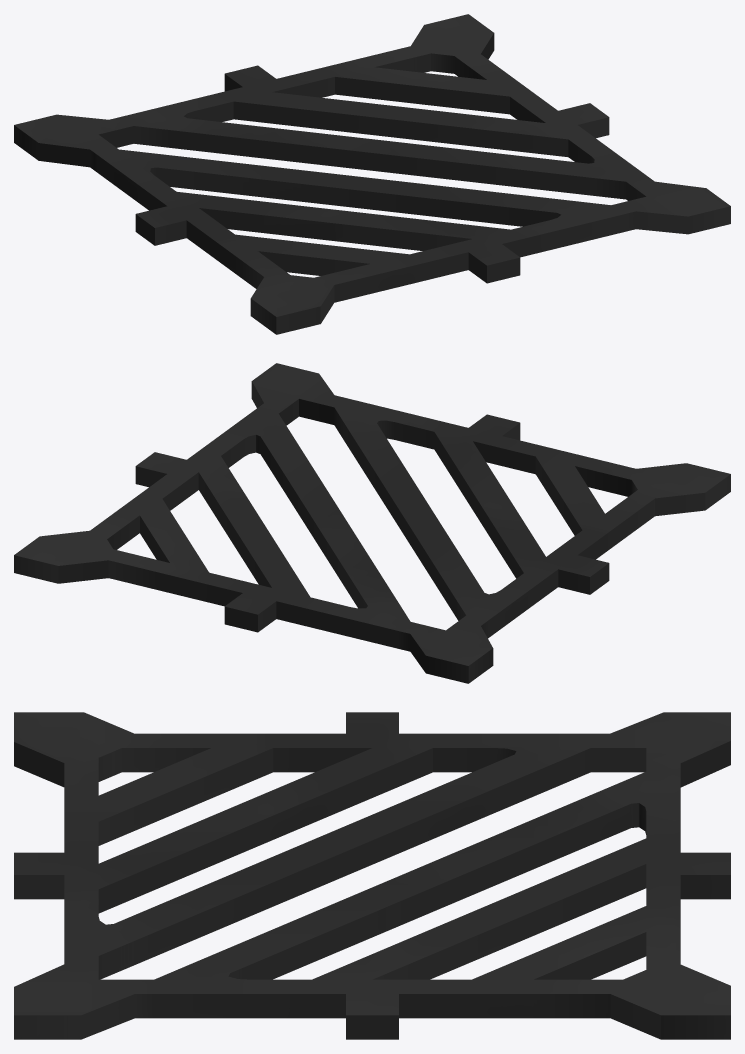
The model's file is drain_grate.glb.
The picture shows the model from 3 angles, top to bottom: view 1: azimuth 30°, elevation 25°; view 2: azimuth 150°, elevation 25°; view 3: azimuth 270°, elevation 25°; orthographic projection. The views are drawn at different scales.
Visible parts, largest first — view 1: drain_grate; view 2: drain_grate; view 3: drain_grate.
Part boxes in pixels (x1,y1,x2,y2): drain_grate: (14,14,730,334); drain_grate: (14,363,730,683); drain_grate: (14,712,730,1039).
Size of the model in its own units: 0.3999 by 0.015 by 0.3999.
Materials: 1 (1 with a texture image).
